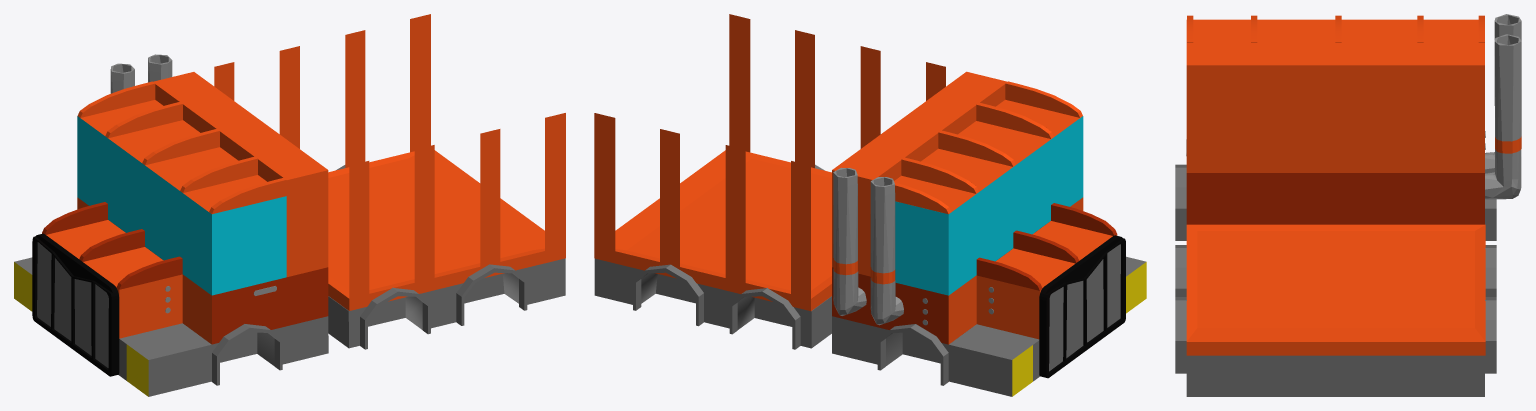
The model's file is Grua_Zona1.fbx.
3 views of the same model, side by side, from view 1: azimuth 30°, elevation 25°; view 2: azimuth 150°, elevation 25°; view 3: azimuth 270°, elevation 25° (orthographic). The views are drawn at different scales.
Parts seen in each view (by area): view 1: Grua_Zona1; view 2: Grua_Zona1; view 3: Grua_Zona1.
Part boxes in pixels (x1,y1,x2,y2): Grua_Zona1: [14, 14, 565, 396]; Grua_Zona1: [594, 14, 1146, 396]; Grua_Zona1: [1175, 14, 1521, 396].
Bounding box in the file's own units: 1343 × 586 × 854.
